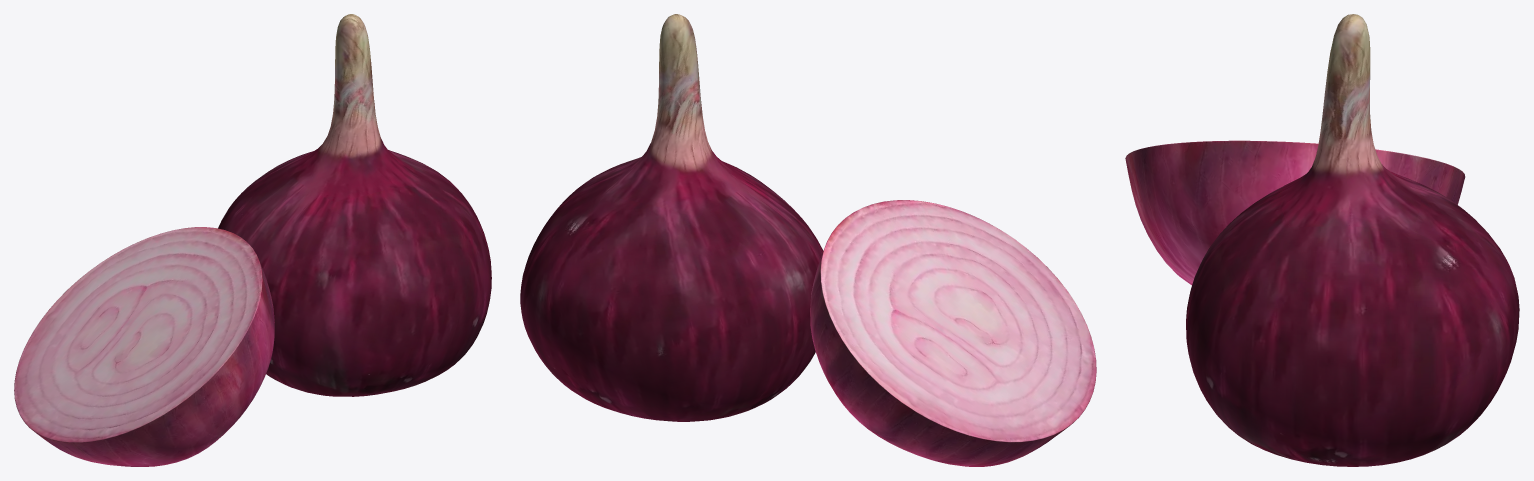
File: onion.glb
The picture shows the model from 3 angles, left to right: view 1: azimuth 30°, elevation 25°; view 2: azimuth 150°, elevation 25°; view 3: azimuth 270°, elevation 25°; orthographic projection. The views are drawn at different scales.
Visible parts, largest first — view 1: red onion 1.001_1, red onion 1 cut.001_0; view 2: red onion 1.001_1, red onion 1 cut.001_0; view 3: red onion 1.001_1, red onion 1 cut.001_0.
Boxes of the visible parts, box(x1,y1,x2,y2) form: red onion 1.001_1: box(218, 14, 491, 396); red onion 1 cut.001_0: box(14, 227, 274, 466); red onion 1.001_1: box(520, 14, 823, 421); red onion 1 cut.001_0: box(810, 200, 1096, 466); red onion 1.001_1: box(1186, 14, 1519, 466); red onion 1 cut.001_0: box(1125, 140, 1465, 285).
Size of the model in its own units: 0.1245 by 0.0928 by 0.0776.
1 material, 1 textured.
